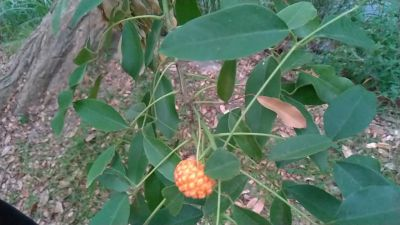eggs: (169, 154, 219, 201)
